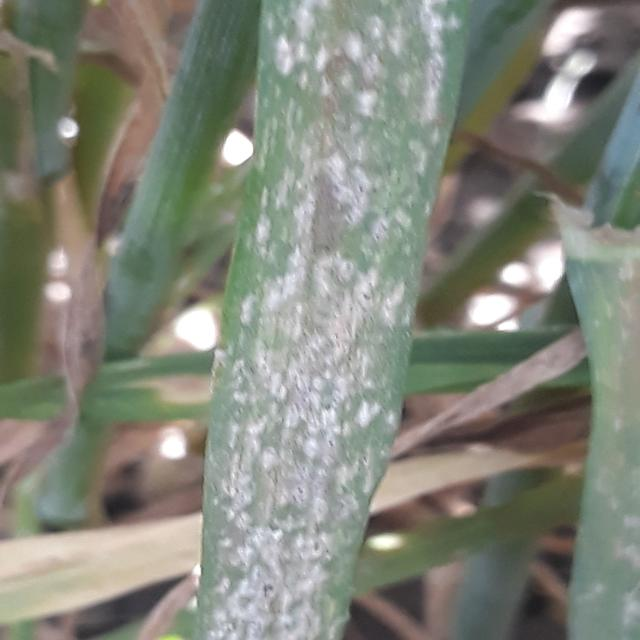powder_mildew: (186, 0, 494, 634)
